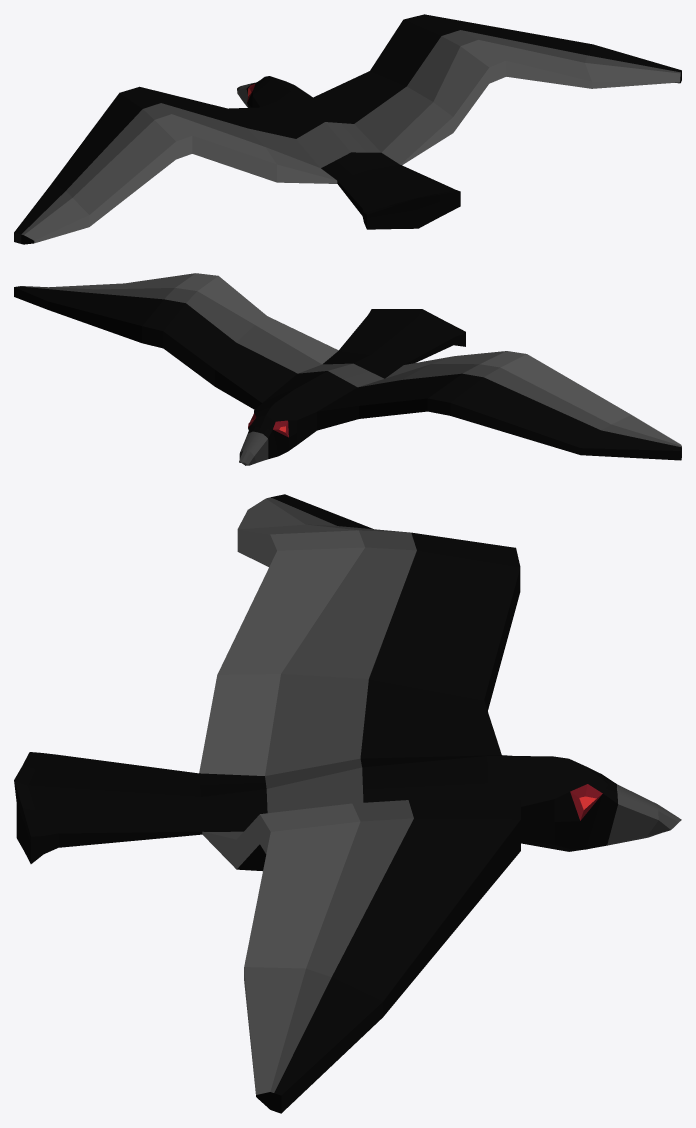
File: Kuzgun.fbx
3 views of the same model, one above another, from view 1: azimuth 30°, elevation 25°; view 2: azimuth 150°, elevation 25°; view 3: azimuth 270°, elevation 25° (orthographic). The views are drawn at different scales.
Parts seen in each view (by area): view 1: Marti; view 2: Marti; view 3: Marti.
Boxes of the visible parts, x1,y1,x2,y2 form: Marti: [14, 14, 681, 244]; Marti: [14, 273, 681, 465]; Marti: [14, 494, 681, 1113].
Size of the model in its own units: 8.04 by 1.06 by 3.77.
1 material, 1 textured.
